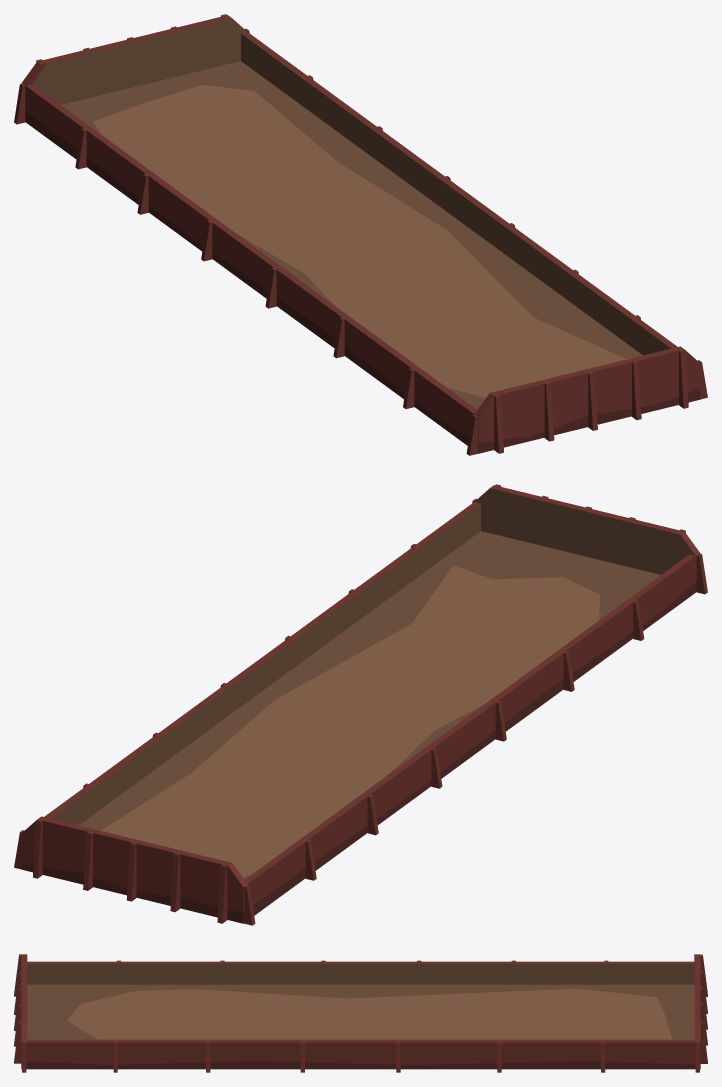
Rendered from SM_Veh_Barge_Tray_01.fbx.
The picture shows the model from 3 angles, top to bottom: view 1: azimuth 30°, elevation 25°; view 2: azimuth 150°, elevation 25°; view 3: azimuth 270°, elevation 25°; orthographic projection. The views are drawn at different scales.
Parts seen in each view (by area): view 1: SM_Veh_Barge_Tray_01; view 2: SM_Veh_Barge_Tray_01; view 3: SM_Veh_Barge_Tray_01.
Part boxes in pixels (x1=…): SM_Veh_Barge_Tray_01: x1=14, y1=14, x2=707, y2=455; SM_Veh_Barge_Tray_01: x1=14, y1=484, x2=707, y2=925; SM_Veh_Barge_Tray_01: x1=14, y1=954, x2=707, y2=1072.
Bounding box in the file's own units: 902 × 197 × 3057.
